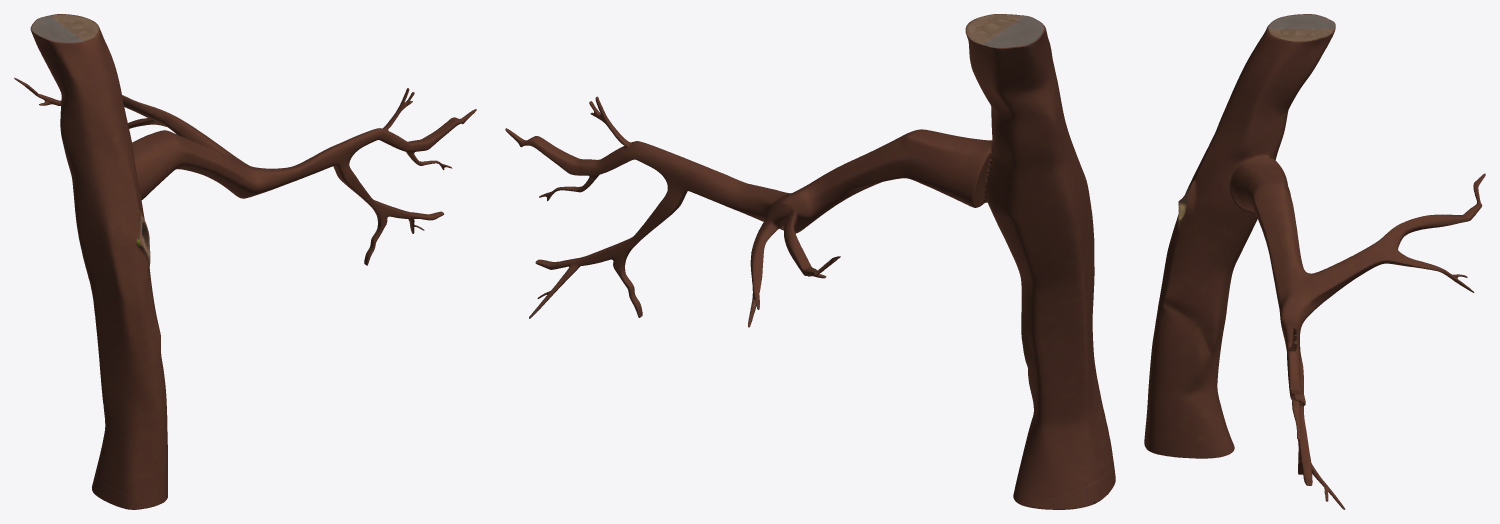
Rendered from noite_galho.glb.
The picture shows the model from 3 angles, left to right: view 1: azimuth 30°, elevation 25°; view 2: azimuth 150°, elevation 25°; view 3: azimuth 270°, elevation 25°; orthographic projection. The views are drawn at different scales.
Size of the model in its own units: 1.9 by 1.74 by 1.3.
Materials: 1 (1 with a texture image).
